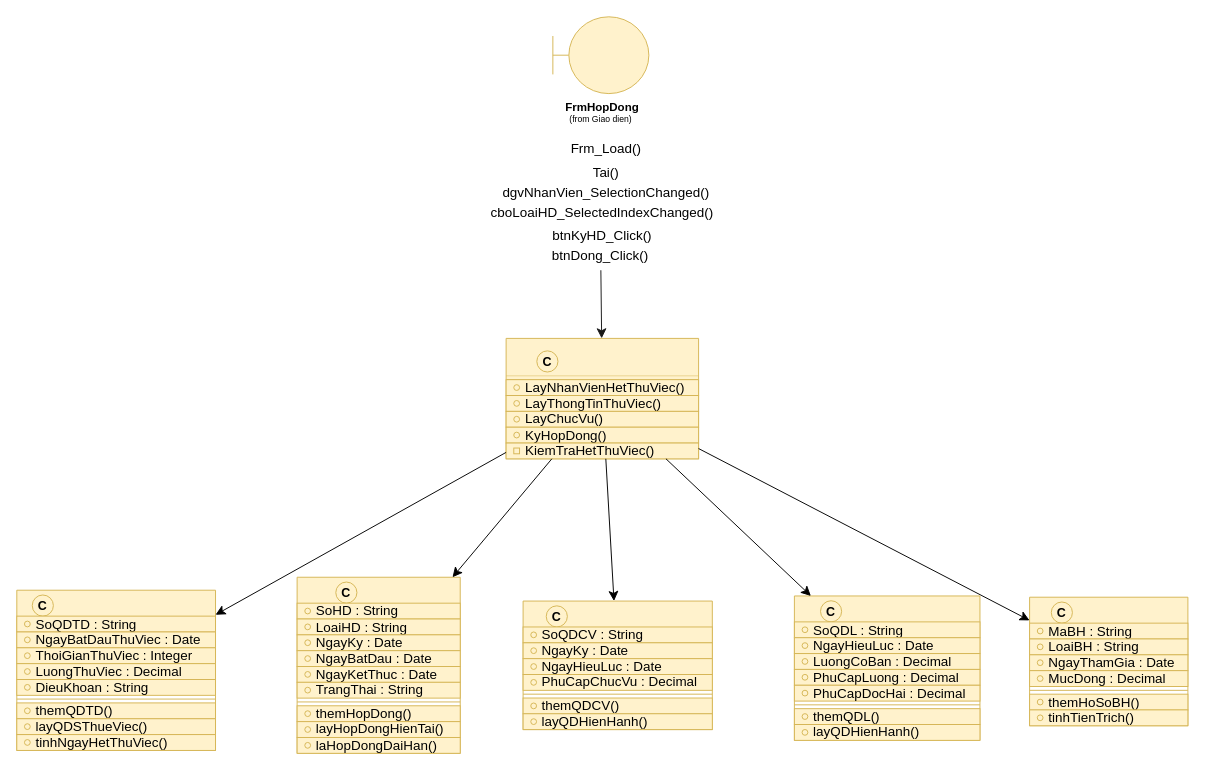
Image size: 1205x771. Some labels were removed from this diagram. The shapes that lost their labels are listed below. From the top down, each one's box as (x1, y1, x2, y2) in pixels, then its label:
(505, 337, 699, 459): HopDongService (from Dieu Khien)
(16, 589, 216, 750): QuyetDinhTuyenDung (from Thuc The)
(296, 576, 460, 753): HopDong (from Thuc The)
(522, 600, 712, 730): QuyetDinhChucVu (from Thuc The)
(793, 595, 980, 740): QuyetDinhLuong (from Thuc The)
(1029, 596, 1188, 726): HoSoBaoHiem (from Thuc The)
